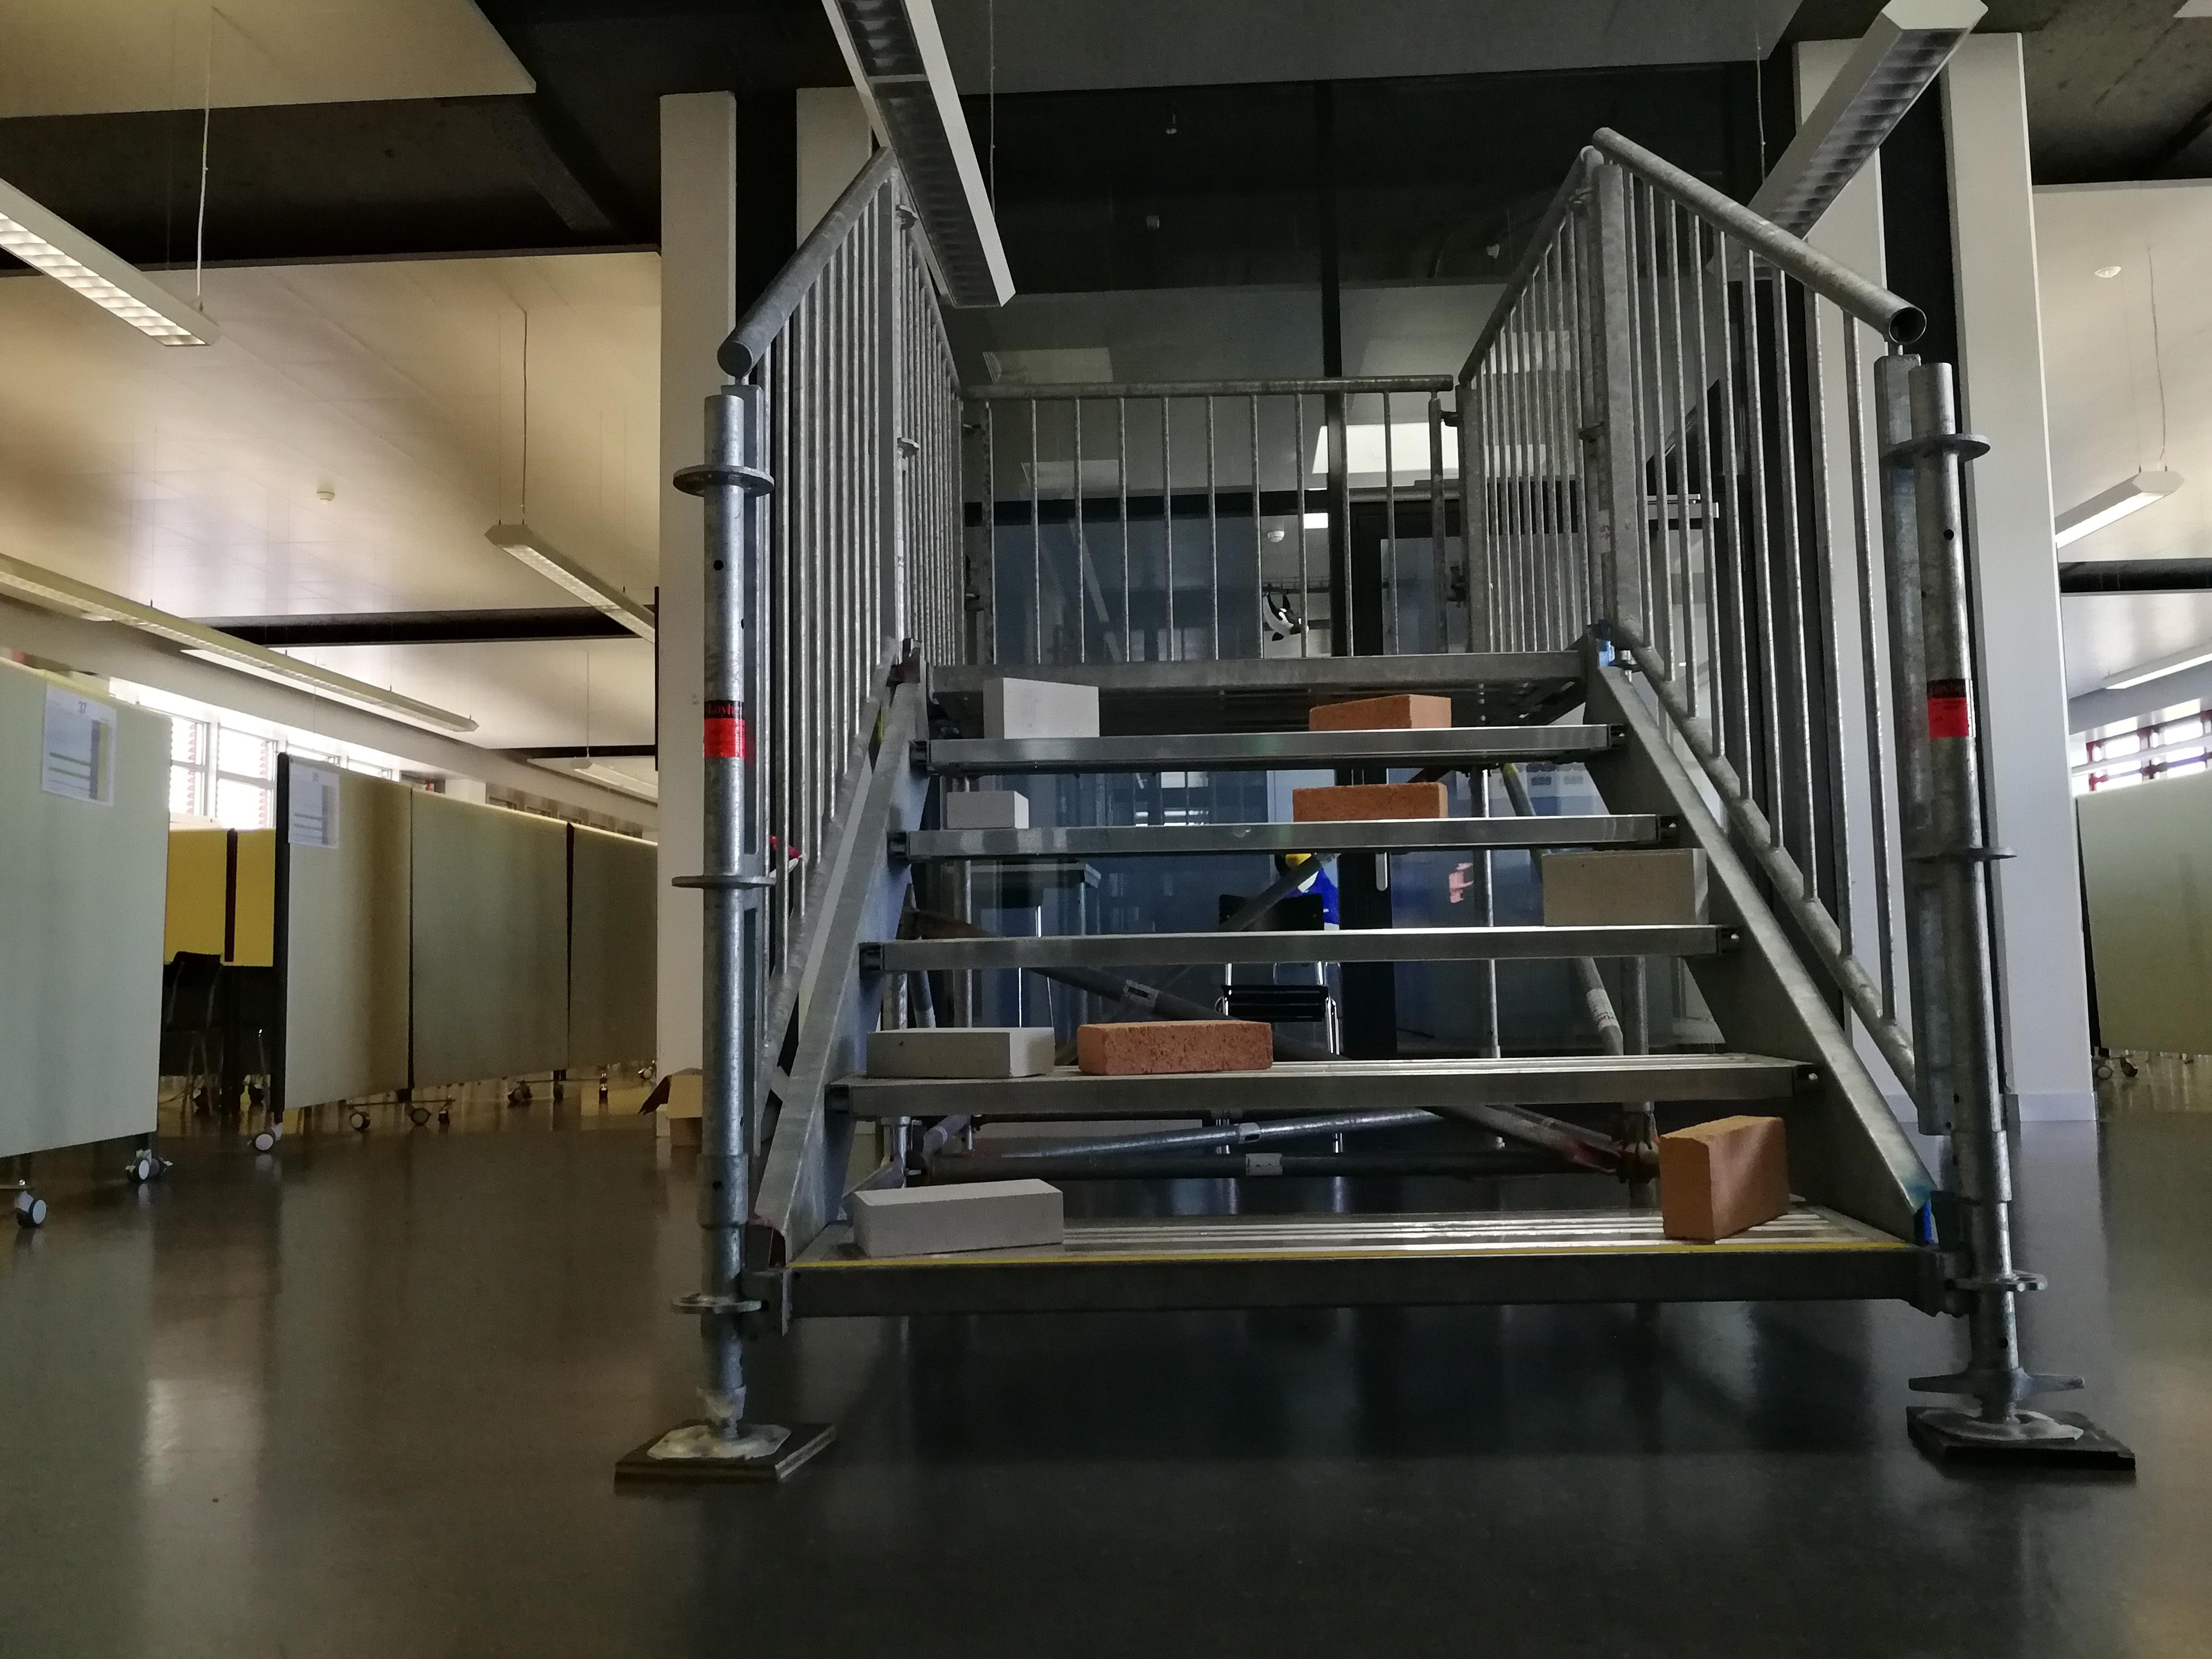brick: (1662, 1114, 1789, 1241), (855, 1182, 1061, 1253), (1543, 847, 1703, 922), (1080, 1018, 1270, 1075), (873, 1030, 1050, 1077), (982, 674, 1097, 734), (1292, 782, 1444, 821), (1308, 694, 1451, 727)
edge: (784, 1243, 1935, 1314), (827, 1063, 1824, 1114), (859, 927, 1749, 965), (885, 817, 1688, 857), (904, 723, 1632, 762), (932, 652, 1594, 683)
stairs: (613, 129, 2135, 1490)
steps: (773, 643, 1944, 1338)
